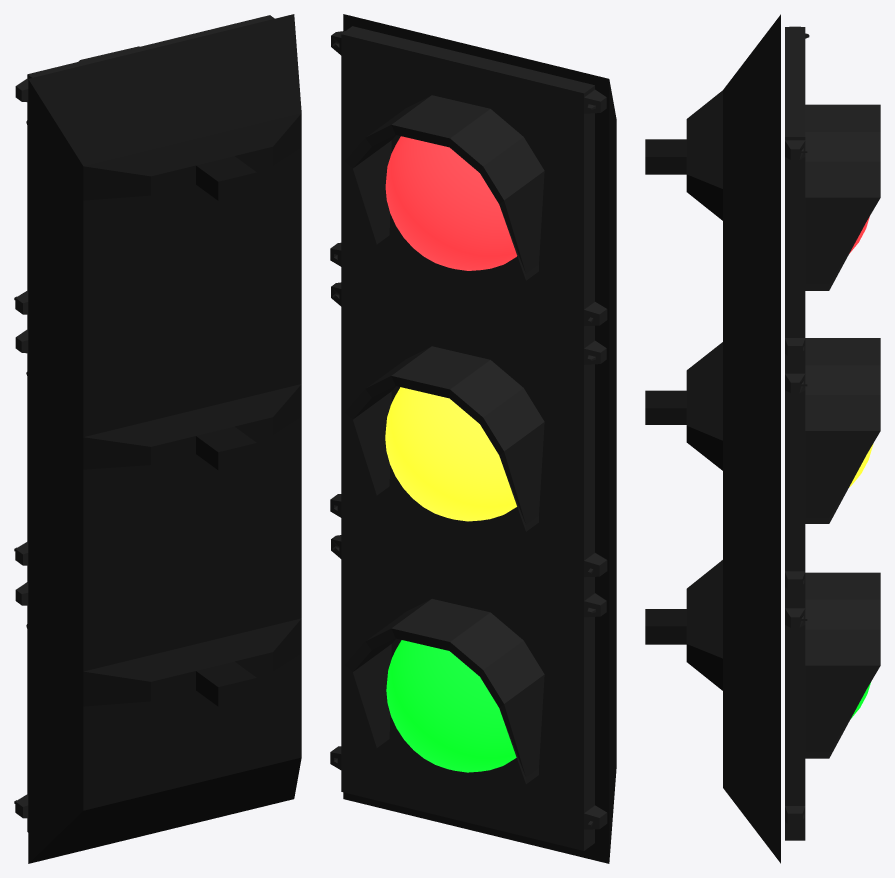
The picture shows the model from 3 angles, left to right: view 1: azimuth 30°, elevation 25°; view 2: azimuth 150°, elevation 25°; view 3: azimuth 270°, elevation 25°; orthographic projection. The views are drawn at different scales.
Parts seen in each view (by area): view 1: Крепление светофора, Часть с красным светом, Часть с зелёным светом, Часть с жёлтым светом; view 2: Часть с красным светом, Часть с зелёным светом, Часть с жёлтым светом, Крепление светофора, Красный фонарь, Жёлтый фонарь, Зелёный фонарь; view 3: Крепление светофора, Часть с красным светом, Часть с зелёным светом, Часть с жёлтым светом.
Part boxes in pixels (box(x1,y1,x2,y2)): Крепление светофора: box(28, 14, 301, 863); Часть с красным светом: box(14, 15, 274, 328); Часть с зелёным светом: box(14, 579, 28, 832); Часть с жёлтым светом: box(14, 328, 28, 579); Часть с красным светом: box(330, 26, 607, 347); Часть с зелёным светом: box(330, 535, 607, 850); Часть с жёлтым светом: box(330, 282, 607, 598); Крепление светофора: box(343, 14, 616, 863); Красный фонарь: box(385, 136, 517, 270); Жёлтый фонарь: box(385, 387, 516, 521); Зелёный фонарь: box(386, 640, 516, 772); Крепление светофора: box(645, 14, 780, 863); Часть с красным светом: box(785, 26, 880, 372); Часть с зелёным светом: box(785, 572, 880, 840); Часть с жёлтым светом: box(785, 338, 880, 606).
Size of the model in its own units: 63.71 by 78.45 by 218.
